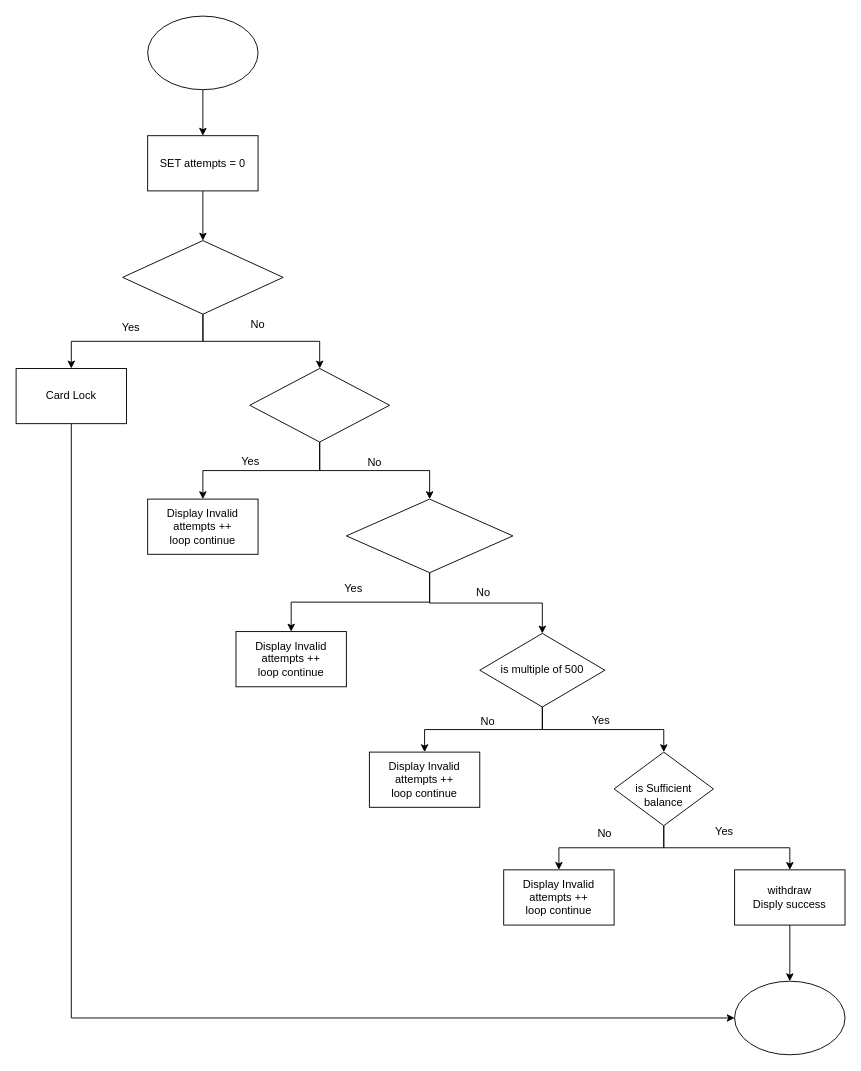
The diagram is 861 pixels wide and 1071 high, and some of its shapes have lost their labels. Each missing label, with the box of its shape:
END: (734, 980, 845, 1055)
is amount < 500: (249, 368, 390, 442)
is amount > 20000: (345, 498, 513, 573)
is attemp >=3 (loop): (122, 240, 283, 314)
Start: (147, 15, 258, 90)
